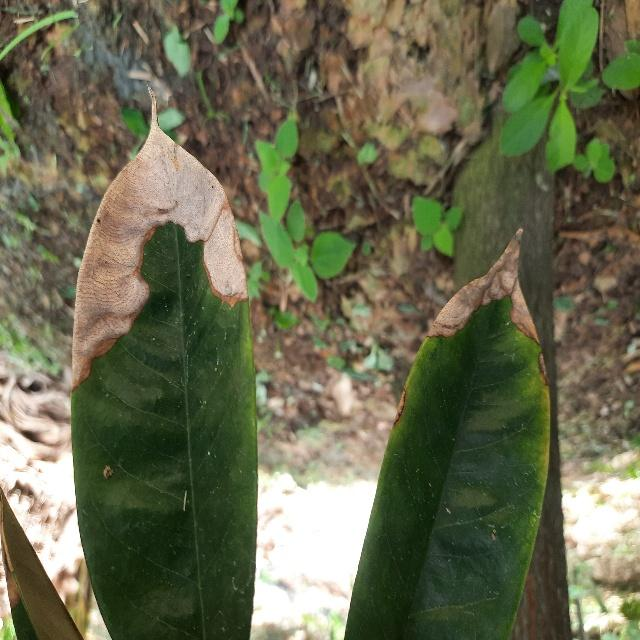Leaf Blight: (63, 102, 264, 640), (341, 228, 563, 640)
